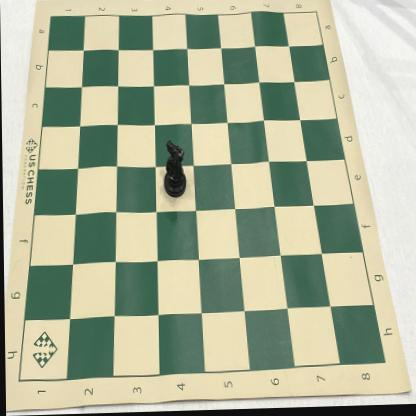black-knight: (162, 141, 186, 199)
